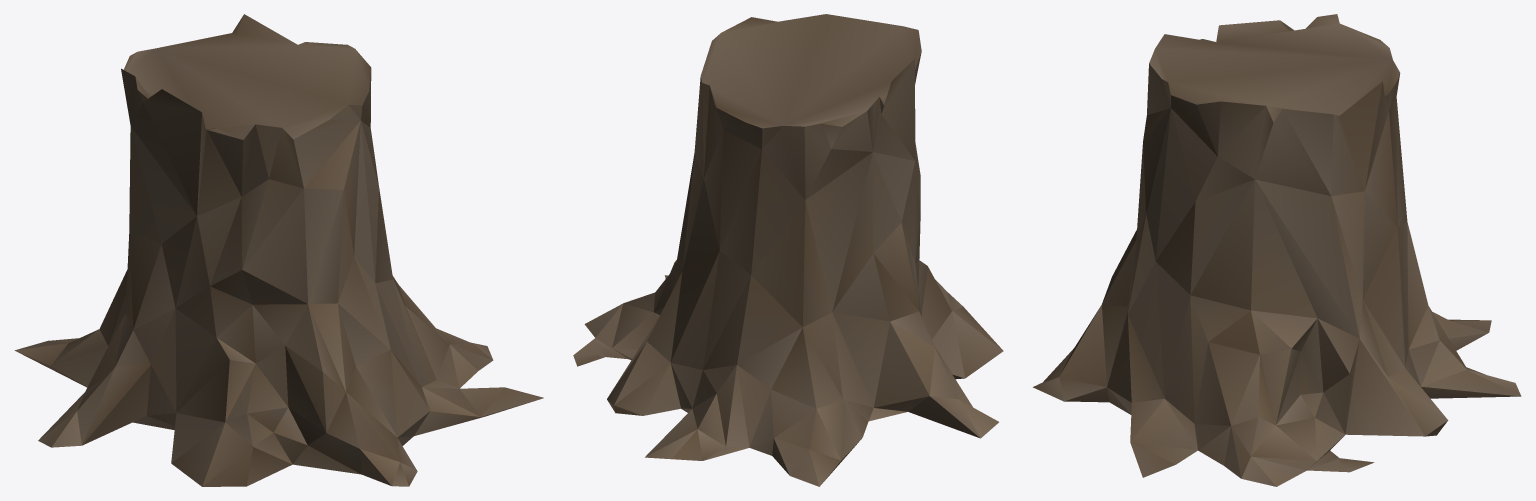
Rendered from juniper_stump.glb.
3 views of the same model, side by side, from view 1: azimuth 30°, elevation 25°; view 2: azimuth 150°, elevation 25°; view 3: azimuth 270°, elevation 25° (orthographic). The views are drawn at different scales.
Parts seen in each view (by area): view 1: Stump; view 2: Stump; view 3: Stump.
Part boxes in pixels (left/top/right/bottom): Stump: left=14, top=14, right=543, bottom=486; Stump: left=573, top=14, right=1003, bottom=486; Stump: left=1033, top=14, right=1521, bottom=486.
Bounding box in the file's own units: 0.7688 × 0.5738 × 0.7889.
